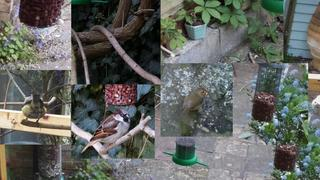blue tit: (21, 94, 47, 127)
robin: (181, 87, 209, 118)
sparrow: (80, 108, 131, 154)
